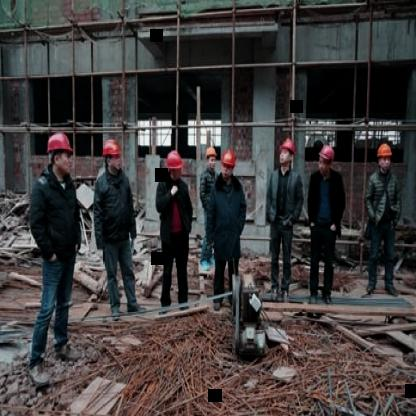helmet: (45, 128, 73, 174), (98, 139, 124, 176), (313, 143, 338, 177), (374, 140, 396, 176), (162, 149, 186, 180), (277, 134, 299, 166), (218, 149, 238, 177), (204, 142, 218, 173)
